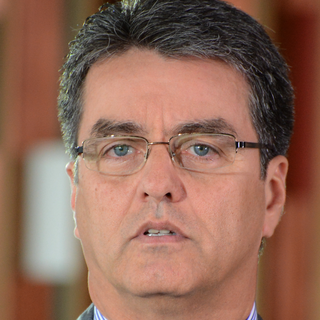eye: (180, 139, 225, 163), (98, 139, 142, 163)
